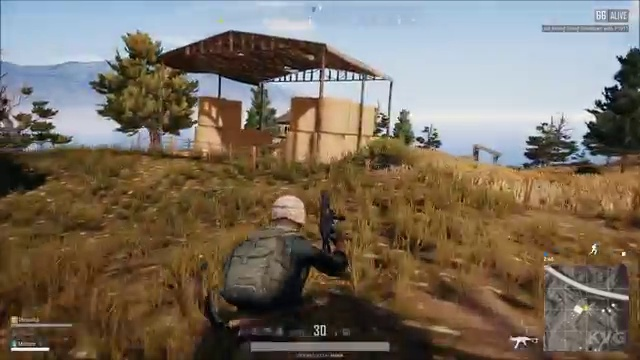Player: (196, 177, 364, 321)
